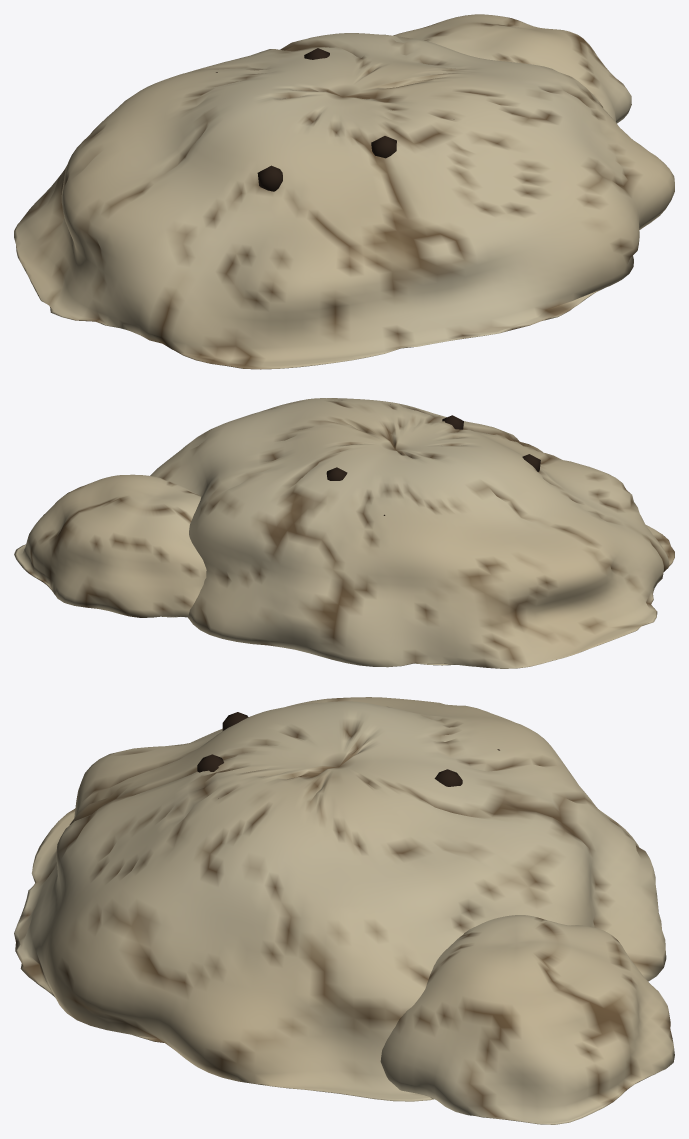
File: Namapoikia.fbx
3 views of the same model, one above another, from view 1: azimuth 30°, elevation 25°; view 2: azimuth 150°, elevation 25°; view 3: azimuth 270°, elevation 25° (orthographic). The views are drawn at different scales.
Visible parts, largest first — view 1: Namapoikia; view 2: Namapoikia; view 3: Namapoikia.
Part boxes in pixels (x1,y1,x2,y2): Namapoikia: (14, 14, 674, 369); Namapoikia: (14, 398, 674, 668); Namapoikia: (14, 697, 674, 1124).
Bounding box in the file's own units: 1.72 × 0.3831 × 1.3.
